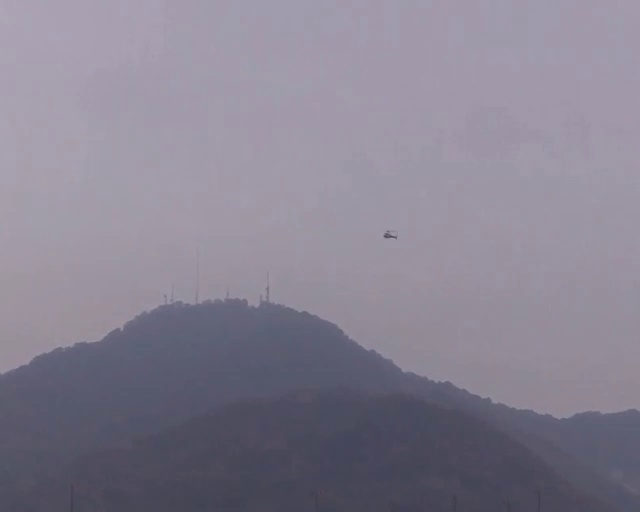HELICOPTER: (383, 230, 398, 239)
